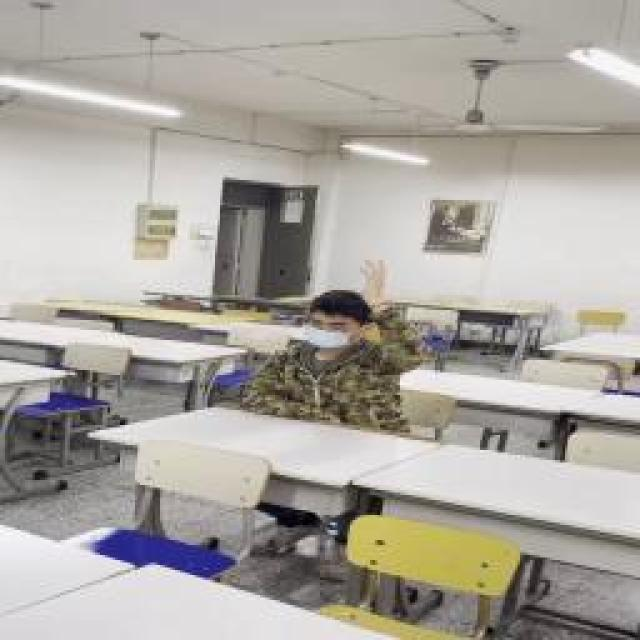study: (245, 262, 427, 428)
